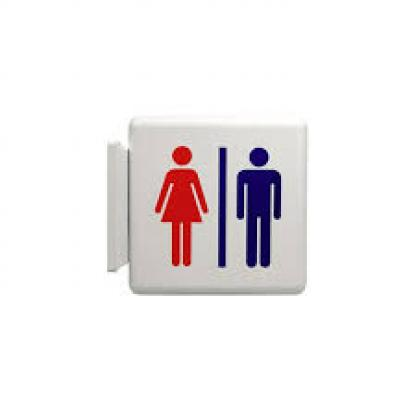toilet: (158, 142, 286, 273)
